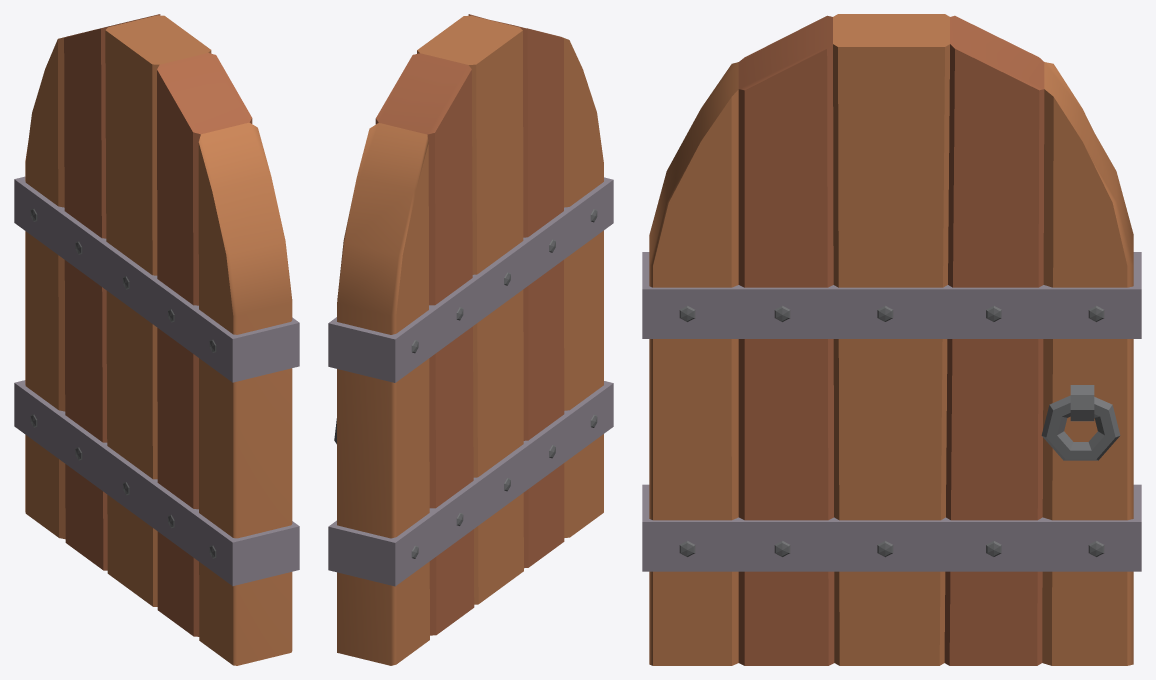
File: door.fbx
The picture shows the model from 3 angles, left to right: view 1: azimuth 30°, elevation 25°; view 2: azimuth 150°, elevation 25°; view 3: azimuth 270°, elevation 25°; orthographic projection. The views are drawn at different scales.
Visible parts, largest first — view 1: pCylinder11; view 2: pCylinder11; view 3: pCylinder11.
Part boxes in pixels (x1,y1,x2,y2): pCylinder11: [14, 14, 299, 665]; pCylinder11: [328, 14, 613, 665]; pCylinder11: [642, 14, 1141, 665].
Size of the model in its own units: 0.3129 by 2.07 by 1.52.
